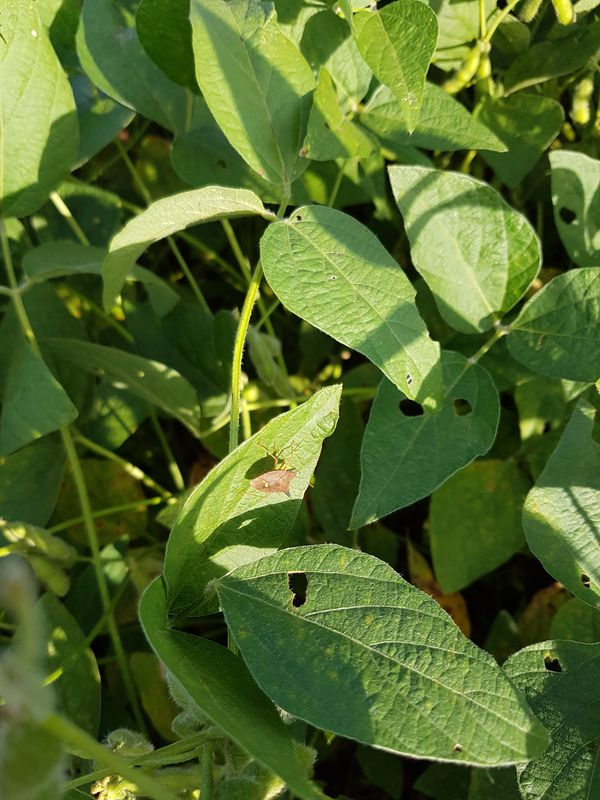Euschistus_heros_adulto: (239, 438, 313, 503)
